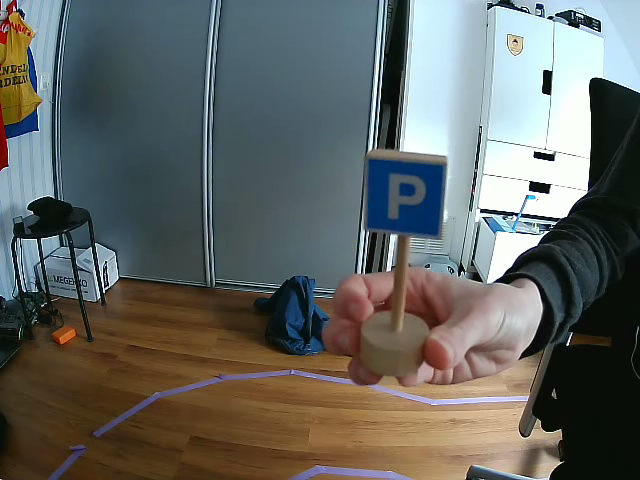parkeerbord: (362, 158, 447, 232)
